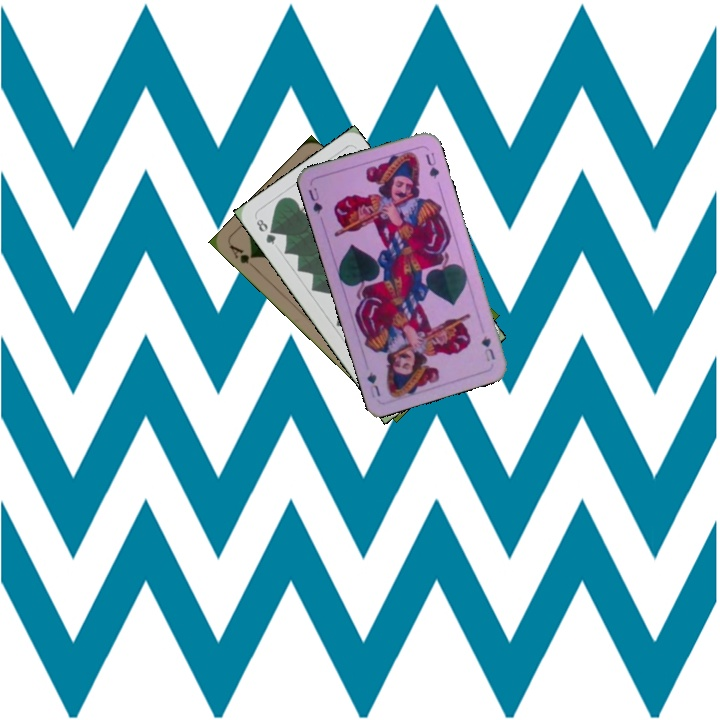G8: (252, 215, 279, 247)
GA: (226, 241, 259, 272)
GU: (477, 331, 498, 364), (304, 184, 325, 216)
